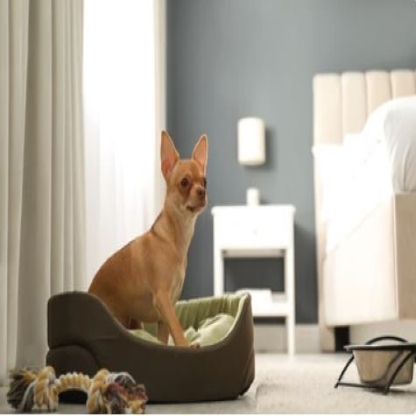chihuahua: (87, 129, 213, 346)
